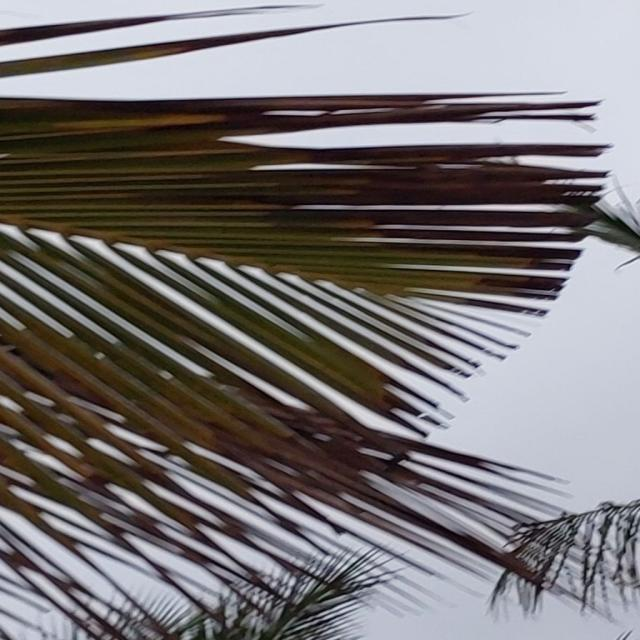gray leaf spot: (0, 96, 607, 639)
